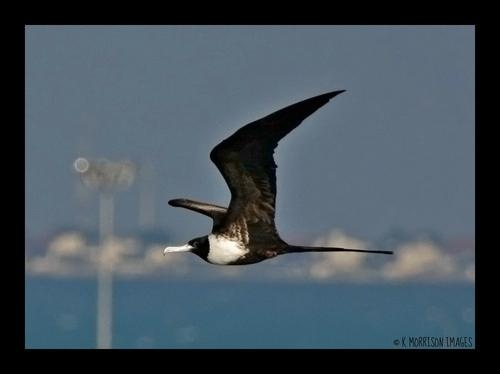bird: (159, 85, 394, 267)
